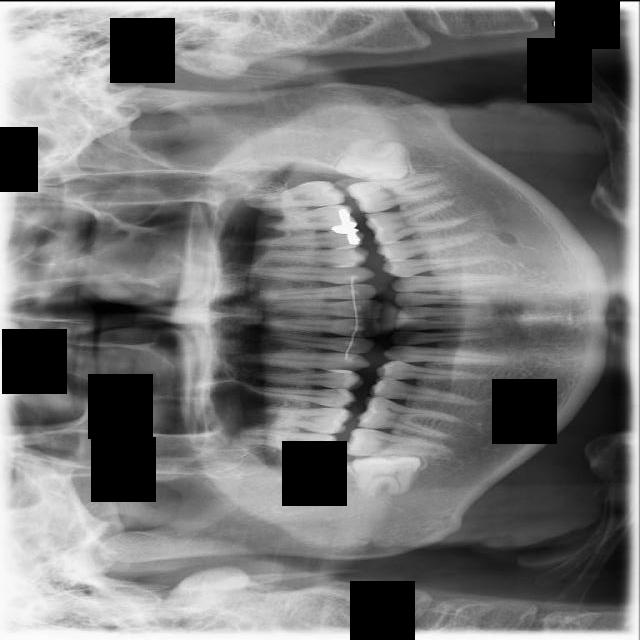52: (321, 201, 359, 233), (323, 226, 364, 249)
73: (618, 9, 624, 15)
BioHorizons Implant: (236, 178, 346, 209)
Biomet 3i Implant: (334, 134, 412, 186)
Blue Sky Bio Implant: (345, 171, 457, 215)
Caries: (231, 425, 339, 461)
Implant: (341, 426, 452, 457)
Keystone Dental Implant: (351, 451, 423, 498)
